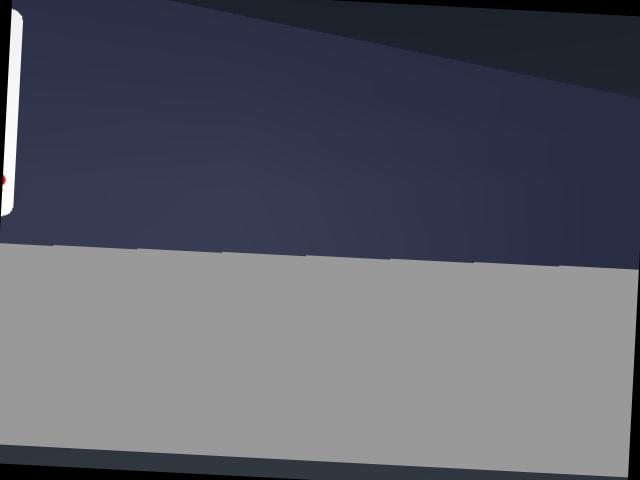diamond: (1, 10, 22, 215)
